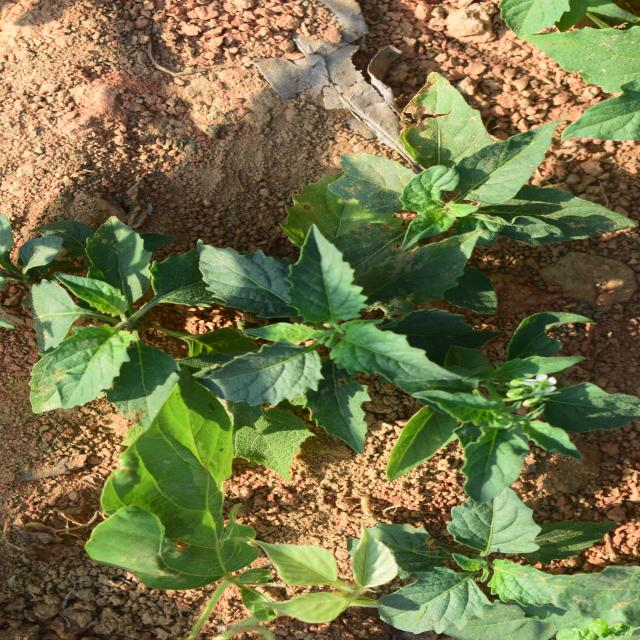Black_nightshade: (352, 345, 546, 613), (213, 197, 411, 439), (224, 32, 441, 228), (152, 399, 346, 598), (12, 389, 161, 592)
